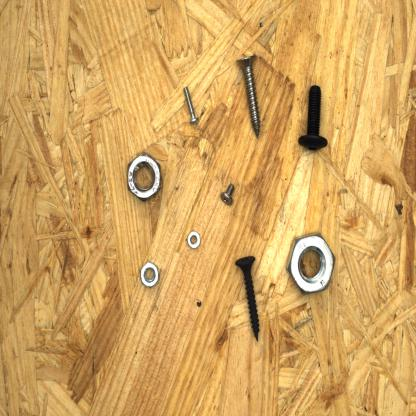screw: (234, 51, 264, 140), (234, 254, 263, 344), (296, 80, 330, 153), (180, 86, 199, 125), (218, 180, 237, 208)
